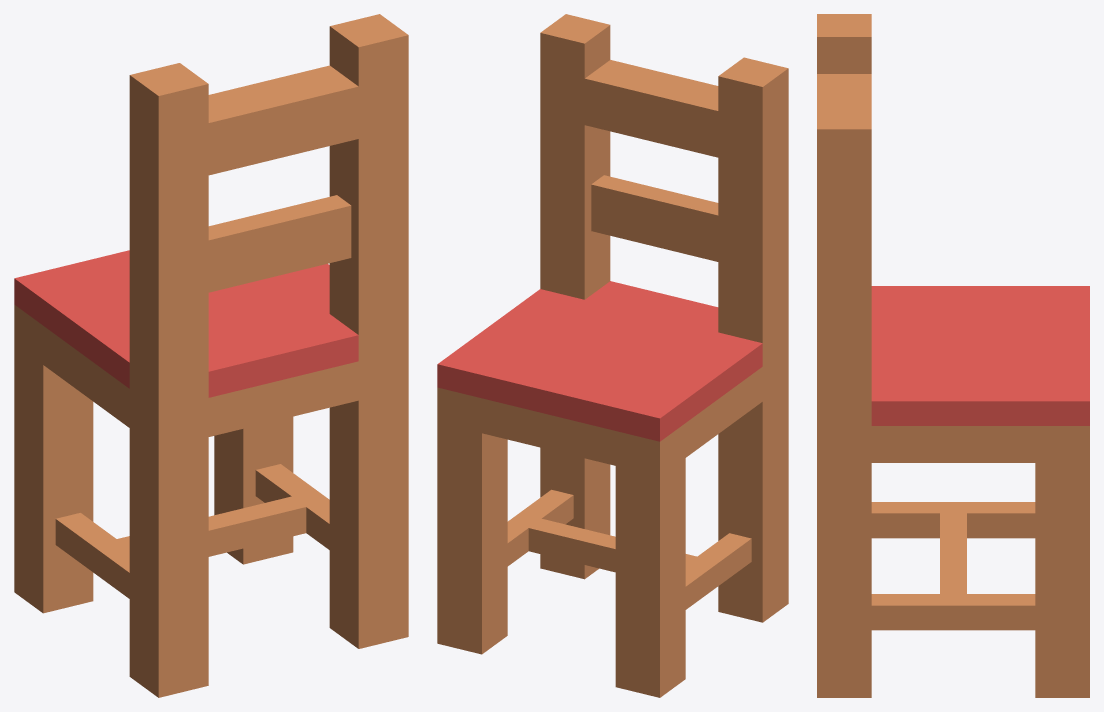
The model's file is chaircushion.gltf.
3 views of the same model, side by side, from view 1: azimuth 30°, elevation 25°; view 2: azimuth 150°, elevation 25°; view 3: azimuth 270°, elevation 25° (orthographic). The views are drawn at different scales.
Parts seen in each view (by area): view 1: chaircushion; view 2: chaircushion; view 3: chaircushion.
Boxes of the visible parts, x1=… form: chaircushion: x1=14, y1=14, x2=408, y2=697; chaircushion: x1=437, y1=14, x2=788, y2=697; chaircushion: x1=817, y1=14, x2=1089, y2=697.
Size of the model in its own units: 0.2 by 0.46 by 0.2.
1 material, 1 textured.
